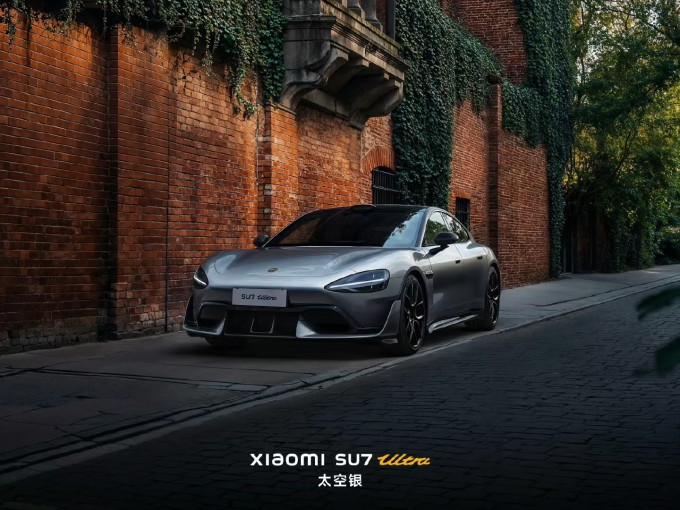su7: (187, 204, 503, 354)
